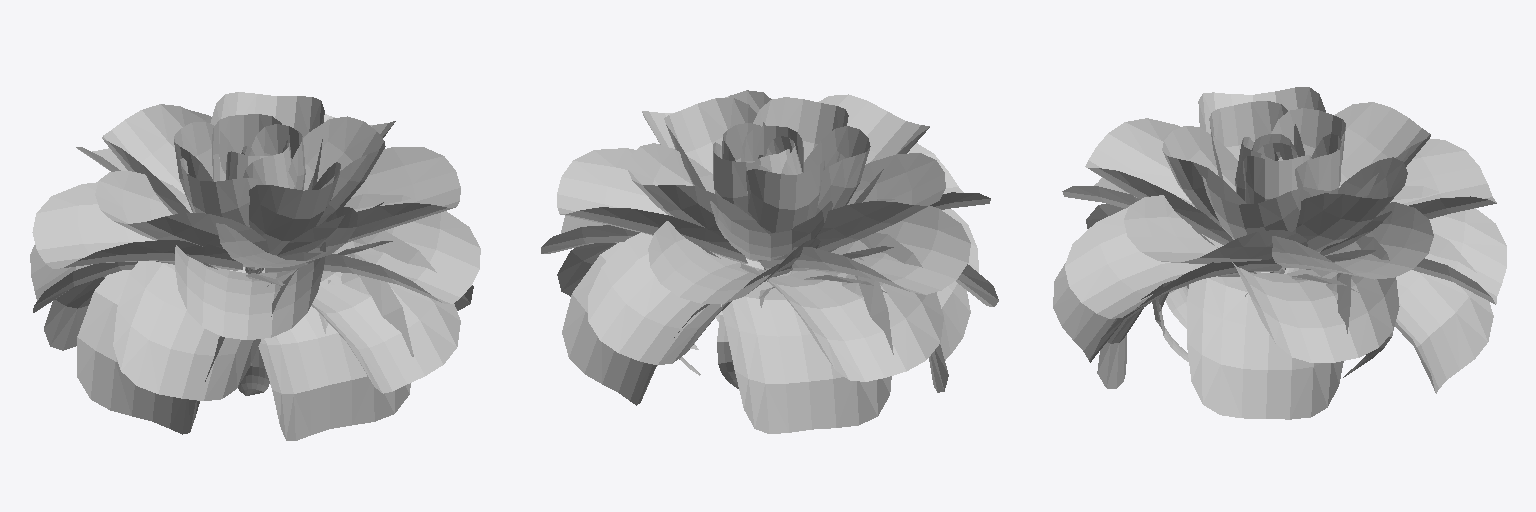
The model's file is FlowerTopModel_03_seq_0052.obj.
3 views of the same model, side by side, from view 1: azimuth 30°, elevation 25°; view 2: azimuth 150°, elevation 25°; view 3: azimuth 270°, elevation 25° (orthographic).
Visible parts, largest first — view 1: FlowerTopModel_03; view 2: FlowerTopModel_03; view 3: FlowerTopModel_03.
Boxes of the visible parts, x1=… form: FlowerTopModel_03: x1=30, y1=92, x2=480, y2=440; FlowerTopModel_03: x1=541, y1=90, x2=998, y2=433; FlowerTopModel_03: x1=1053, y1=87, x2=1506, y2=419.
Size of the model in its own units: 931 by 526 by 927.